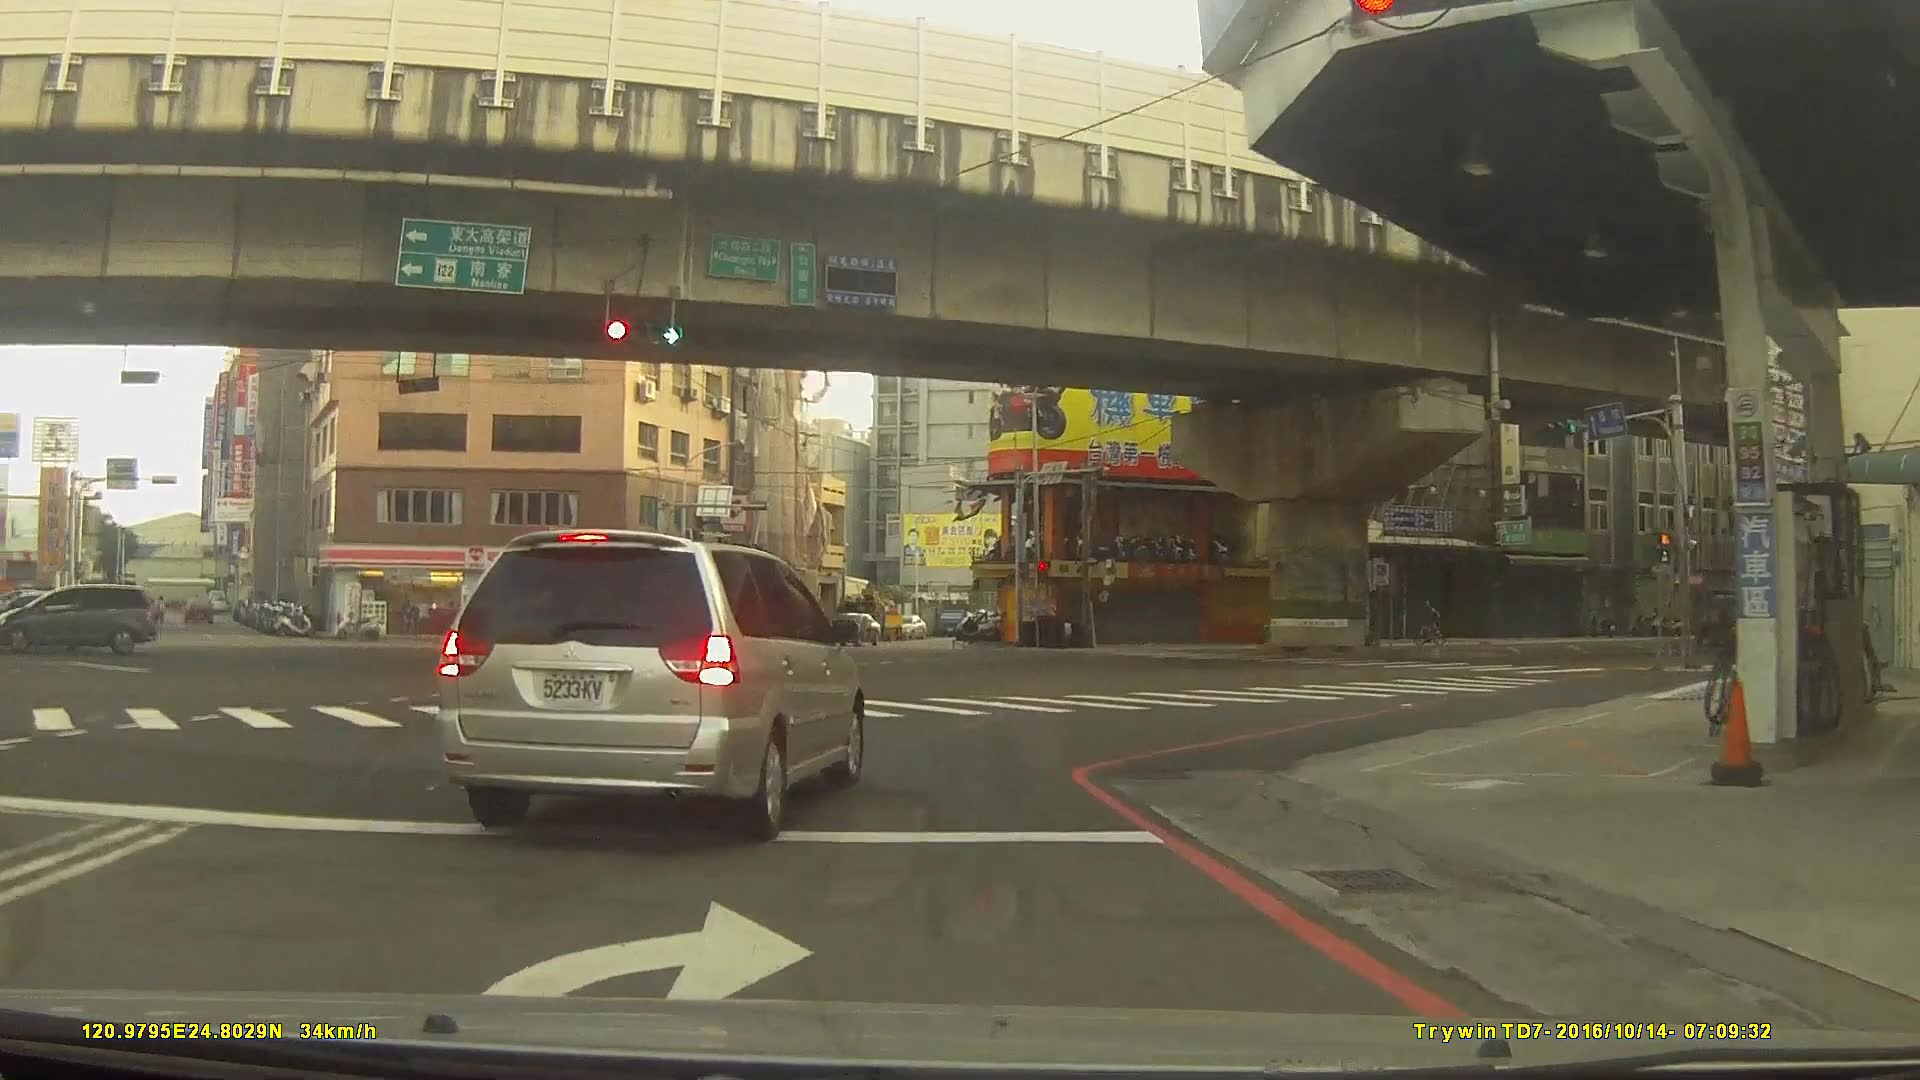vehicle: (440, 527, 866, 841), (0, 582, 156, 654), (1693, 583, 1764, 647), (819, 615, 881, 650), (543, 607, 605, 633), (179, 595, 214, 626)
